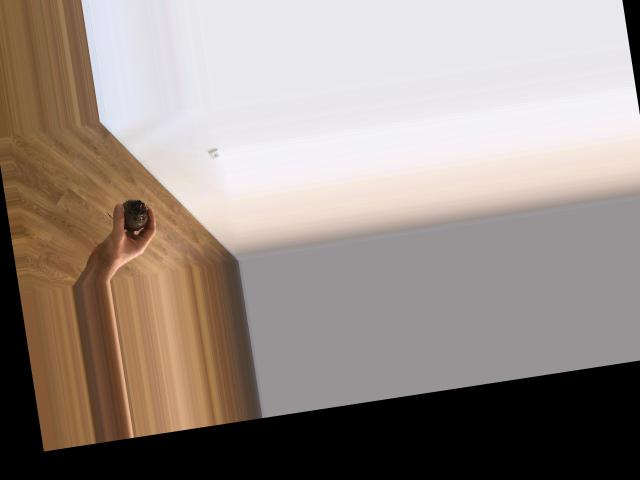beet: (105, 196, 151, 234)
